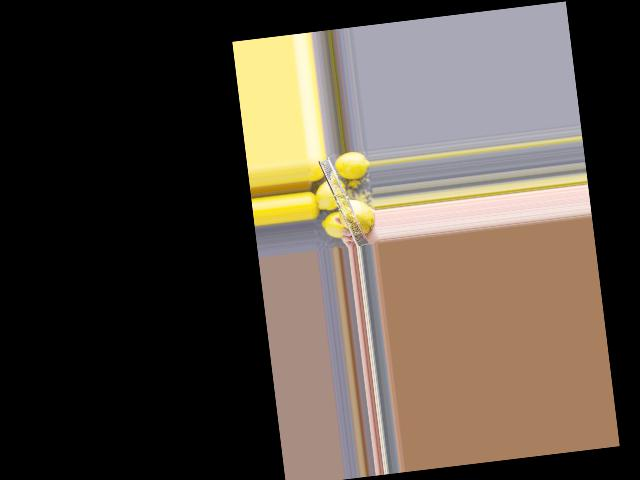lemon: (334, 150, 370, 186)
